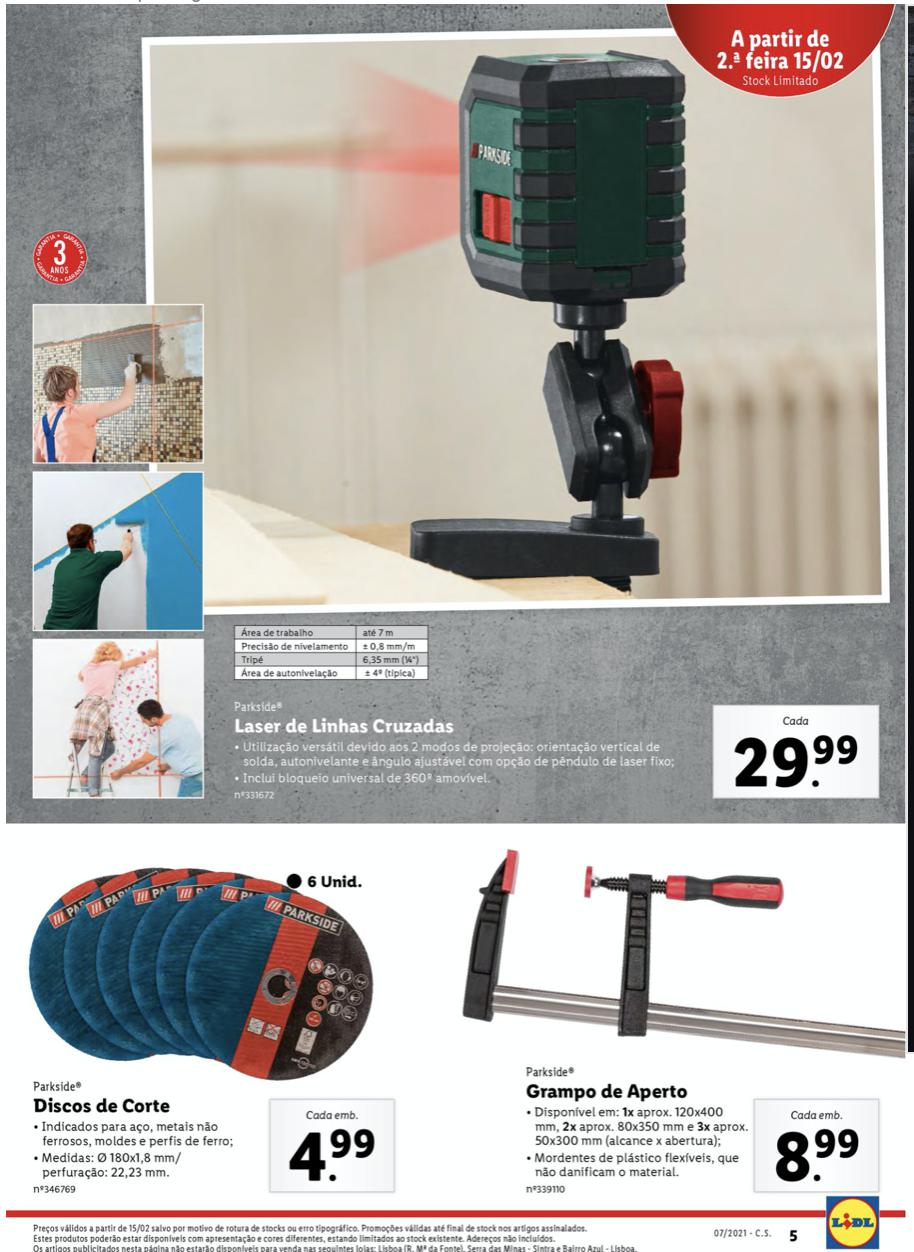name: (227, 714, 460, 742), (522, 1078, 692, 1108), (28, 1092, 175, 1117)
price: (730, 731, 861, 794), (283, 1125, 382, 1186), (771, 1128, 864, 1186)
product: (11, 28, 905, 823), (436, 845, 899, 1203), (7, 842, 436, 1203)
